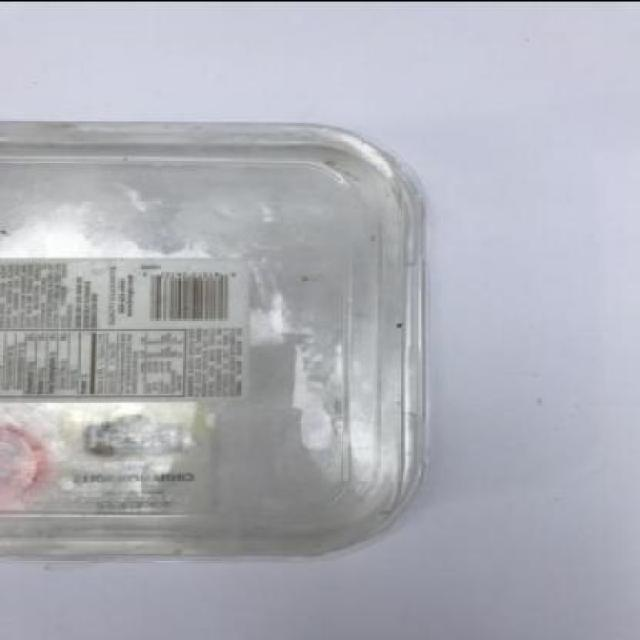PLASTIC: (2, 119, 433, 562)
